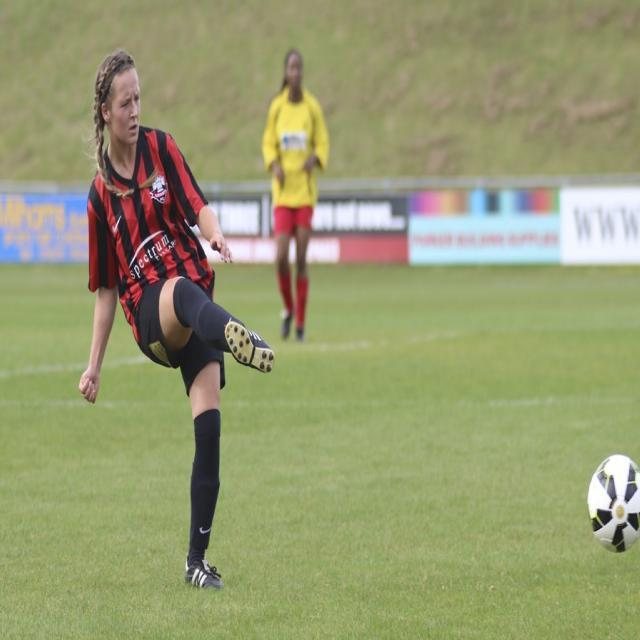football: (577, 441, 640, 565)
